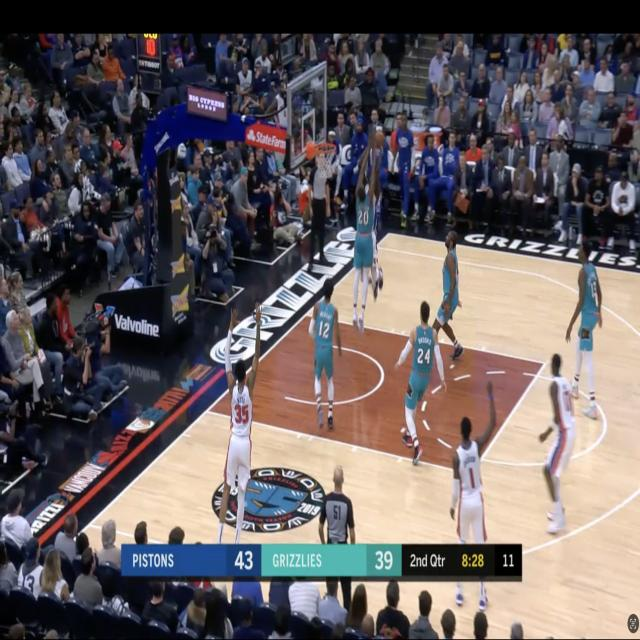foul: (349, 124, 383, 335)
no foul: (400, 234, 463, 466)
